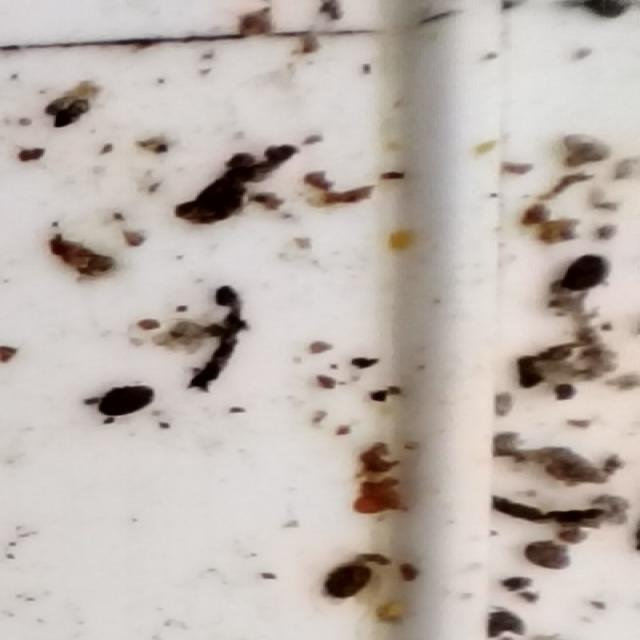varroa: (94, 383, 160, 421), (323, 563, 374, 603), (561, 255, 610, 296)
